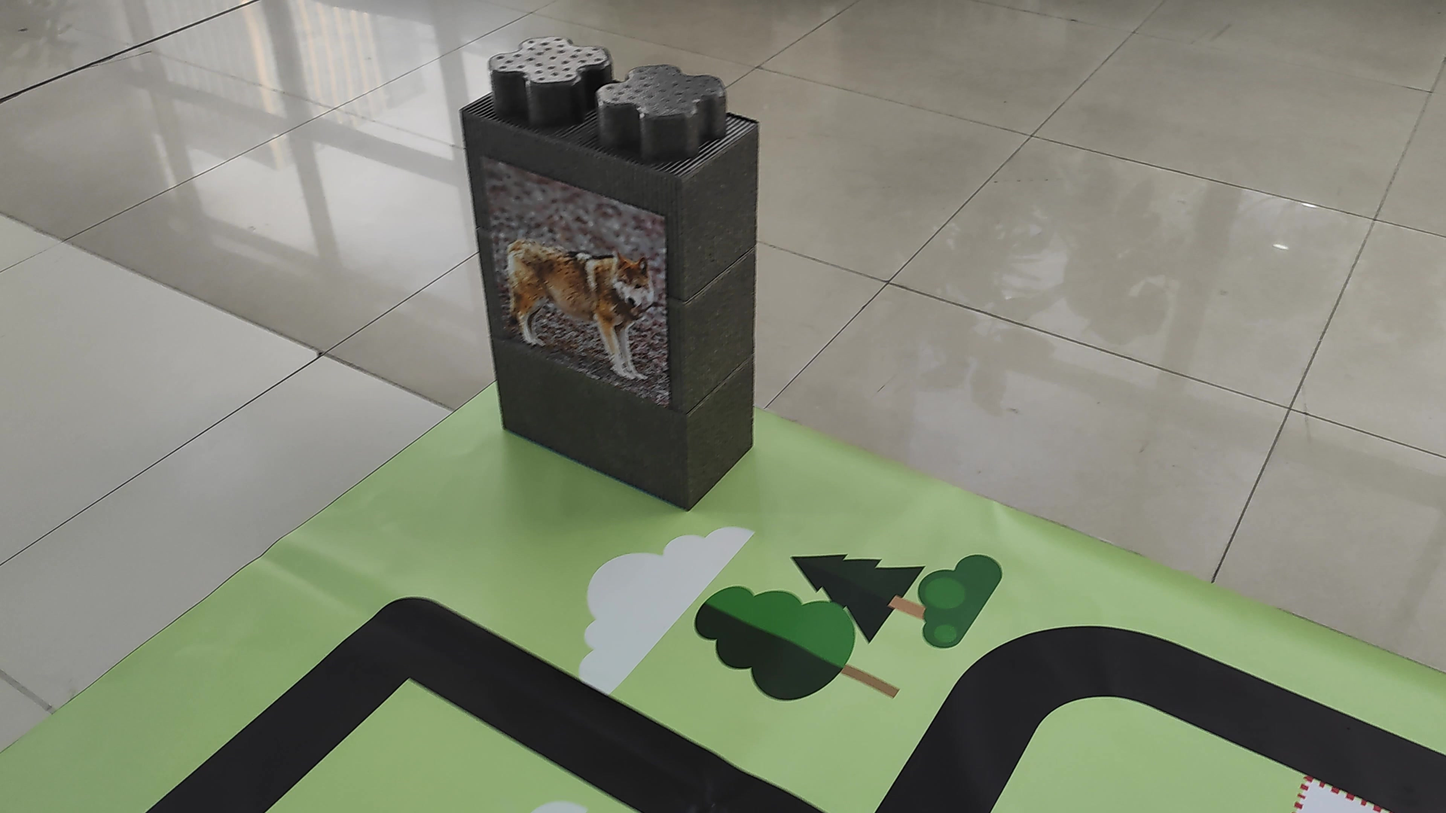wolf: (483, 215, 674, 395)
